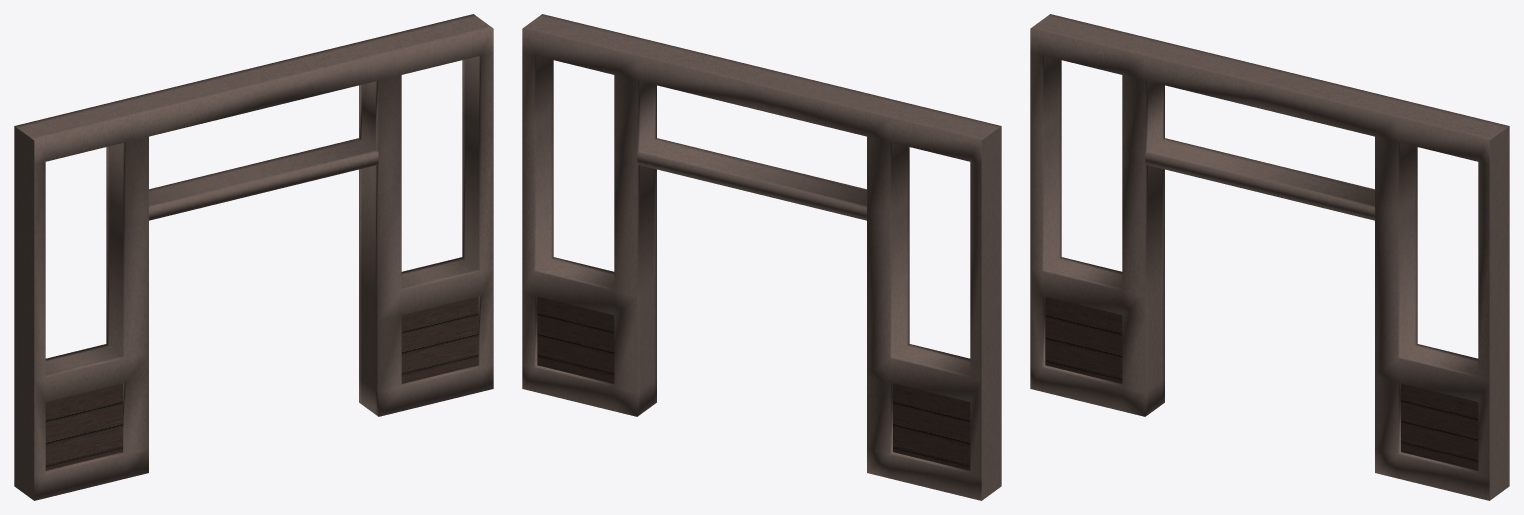
The model's file is Wall_4x3_B.glb.
3 renders of one model, left to right at view 1: azimuth 30°, elevation 25°; view 2: azimuth 150°, elevation 25°; view 3: azimuth 330°, elevation 25°, orthographic.
Visible parts, largest first — view 1: Wall_4x3_B.001; view 2: Wall_4x3_B.001; view 3: Wall_4x3_B.001.
Part boxes in pixels (left/top/right/bottom): Wall_4x3_B.001: left=14, top=14, right=493, bottom=500; Wall_4x3_B.001: left=522, top=14, right=1001, bottom=500; Wall_4x3_B.001: left=1030, top=14, right=1509, bottom=500.
Size of the model in its own units: 4 by 3 by 0.3.
Materials: 1 (1 with a texture image).
